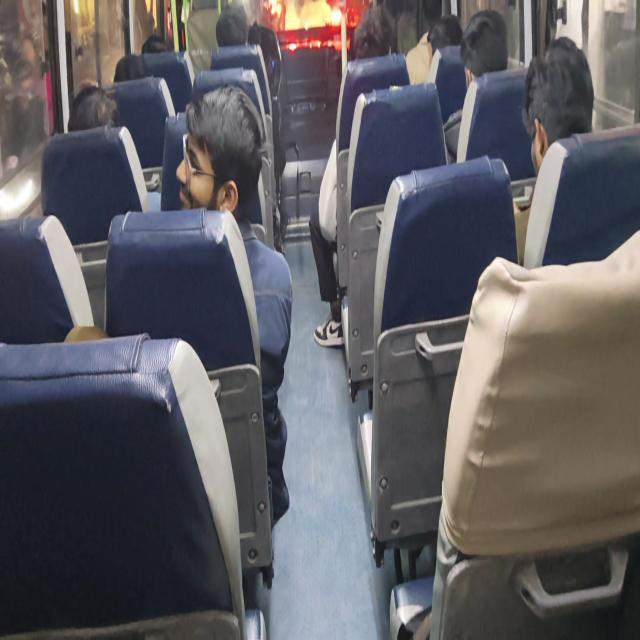person: (175, 84, 293, 527), (309, 6, 399, 348), (511, 35, 595, 263), (443, 8, 508, 164), (1, 31, 49, 170), (405, 13, 463, 85), (67, 82, 120, 132)
